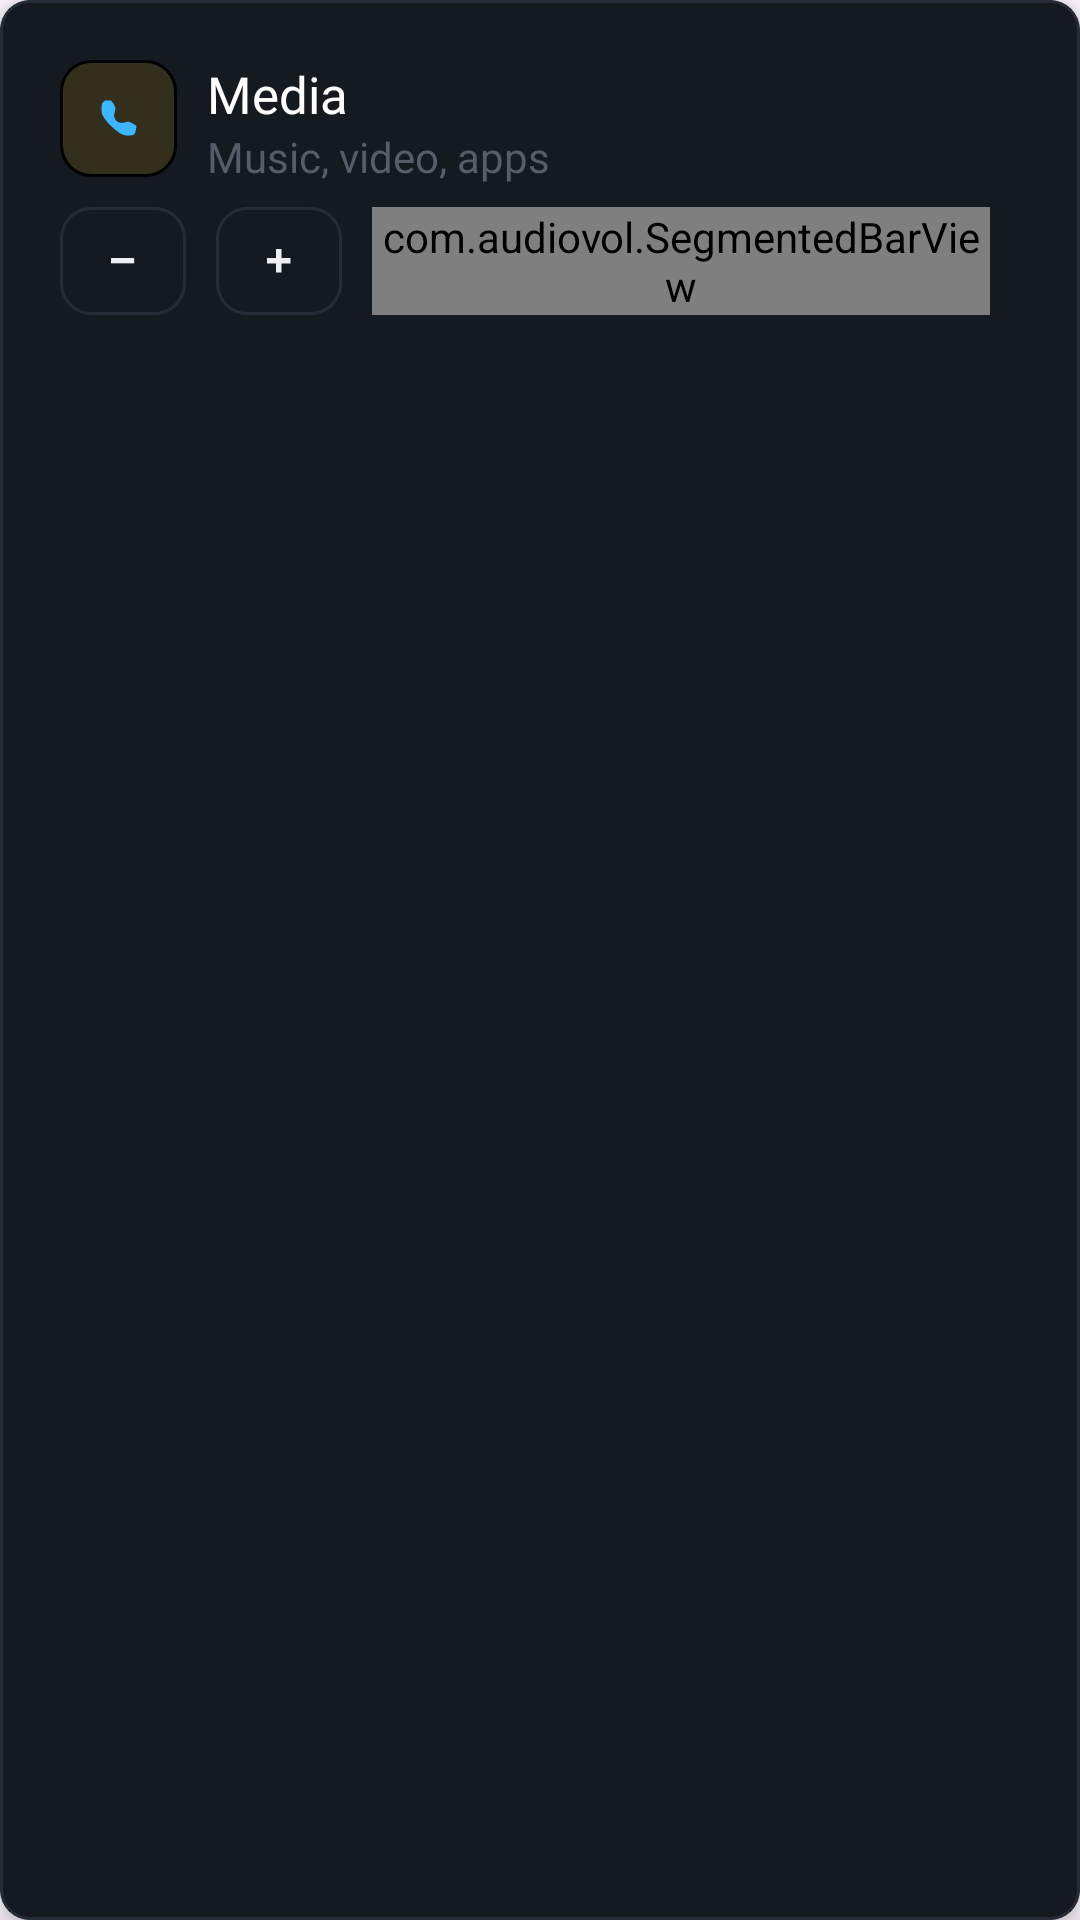

Named icons in this screenshot (1080px x 1920px) and their centers, [x,y]:
minus: [123,261]
phone: [118,118]
plus: [279,261]
